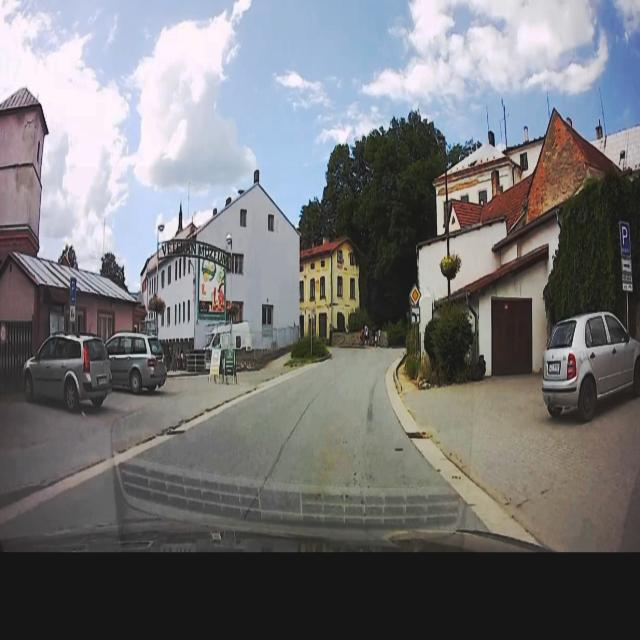Priority road: (411, 281, 422, 307)
